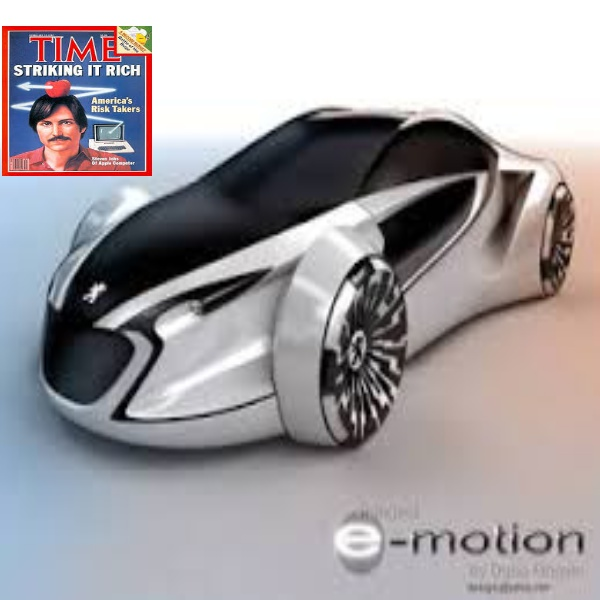time_cover: (3, 19, 156, 175)
